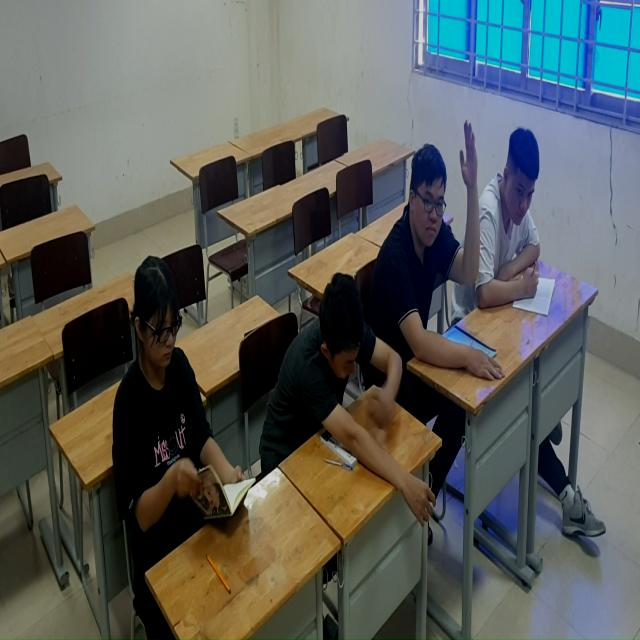raise_hand: (391, 117, 490, 336)
read: (107, 253, 260, 561), (482, 120, 560, 323)
sleep: (264, 274, 440, 525)
